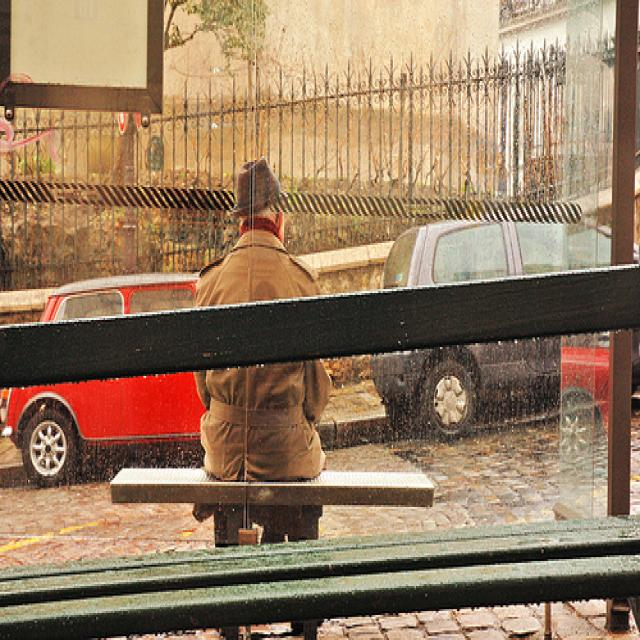light_vehicle: (371, 208, 639, 438), (0, 270, 215, 486)
